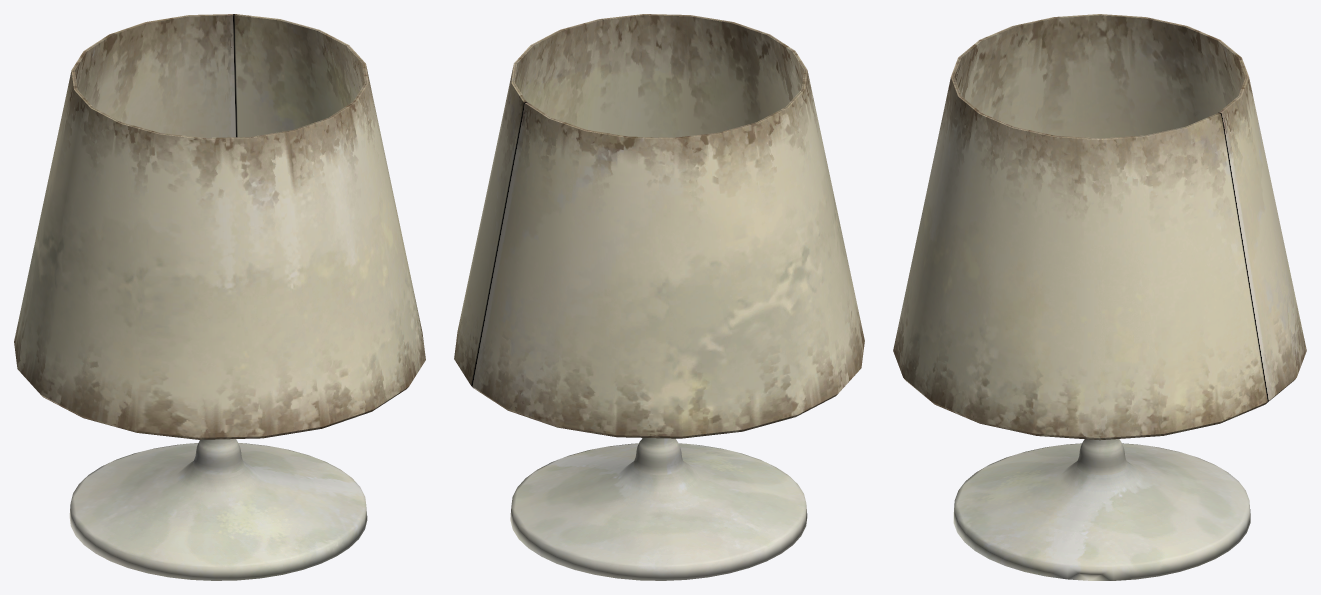
The model's file is lamp_desk_damaged.dae.
3 renders of one model, left to right at view 1: azimuth 30°, elevation 25°; view 2: azimuth 150°, elevation 25°; view 3: azimuth 270°, elevation 25°, orthographic.
Visible parts, largest first — view 1: polySurface11; view 2: polySurface11; view 3: polySurface11.
Boxes of the visible parts, x1=… form: polySurface11: x1=14, y1=14, x2=425, y2=580; polySurface11: x1=454, y1=14, x2=864, y2=580; polySurface11: x1=893, y1=14, x2=1306, y2=580.
Size of the model in its own units: 0.4225 by 0.4975 by 0.4225.
